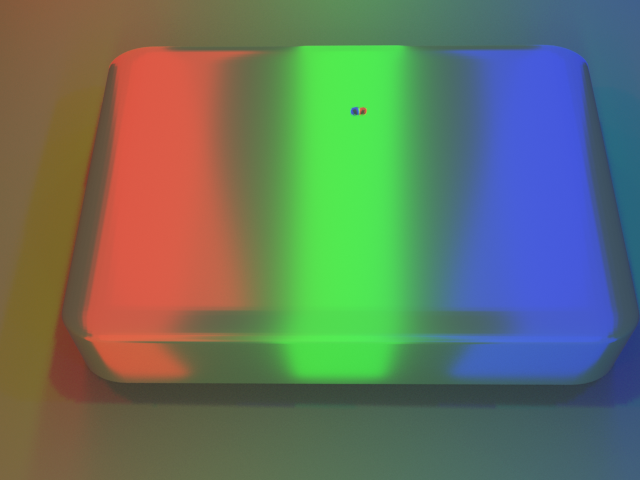dent: (341, 81, 380, 122)
